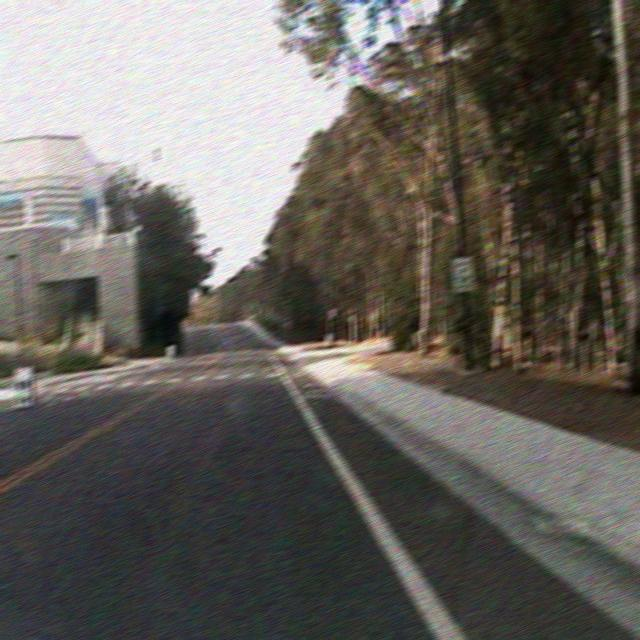speedLimit35: (450, 255, 475, 293)
